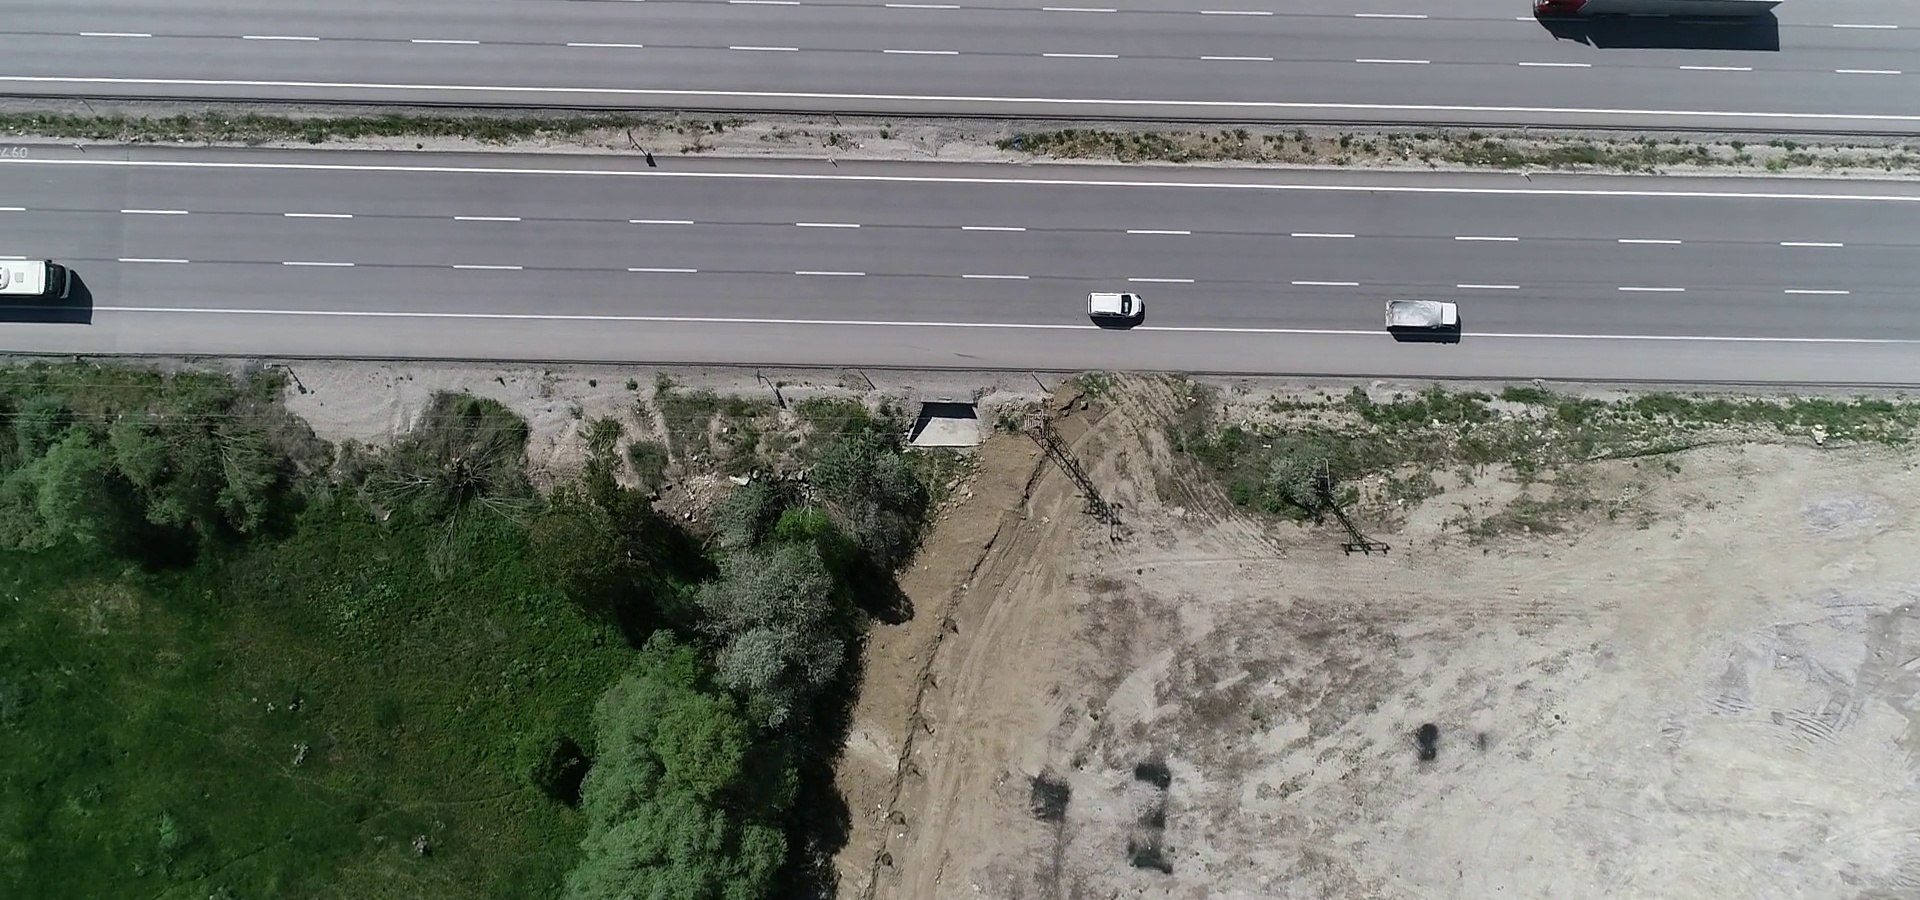araba: (1080, 280, 1146, 328)
kamyonet: (1382, 290, 1466, 329)
otobus: (1, 249, 71, 305)
